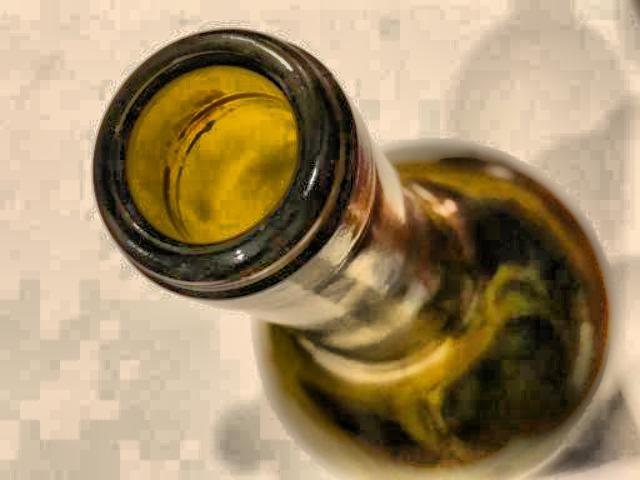Bottles: (88, 15, 640, 480)
